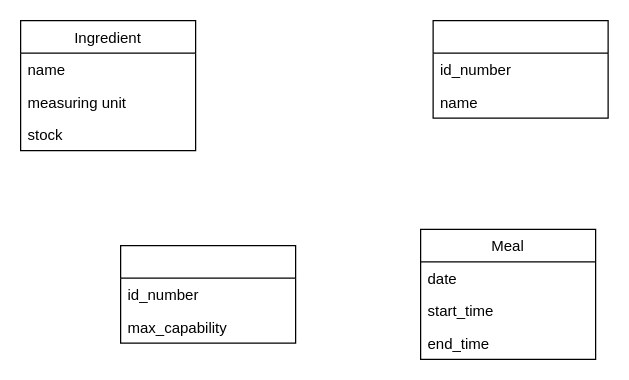
Image size: 629x380. Some labels were removed from this diagram. The shapes that lost their labels are listed below. From the top down, each one's box as (x1, y1, x2, y2) in pixels, then its label:
(432, 19, 608, 118): Dish
(119, 244, 296, 343): Table
